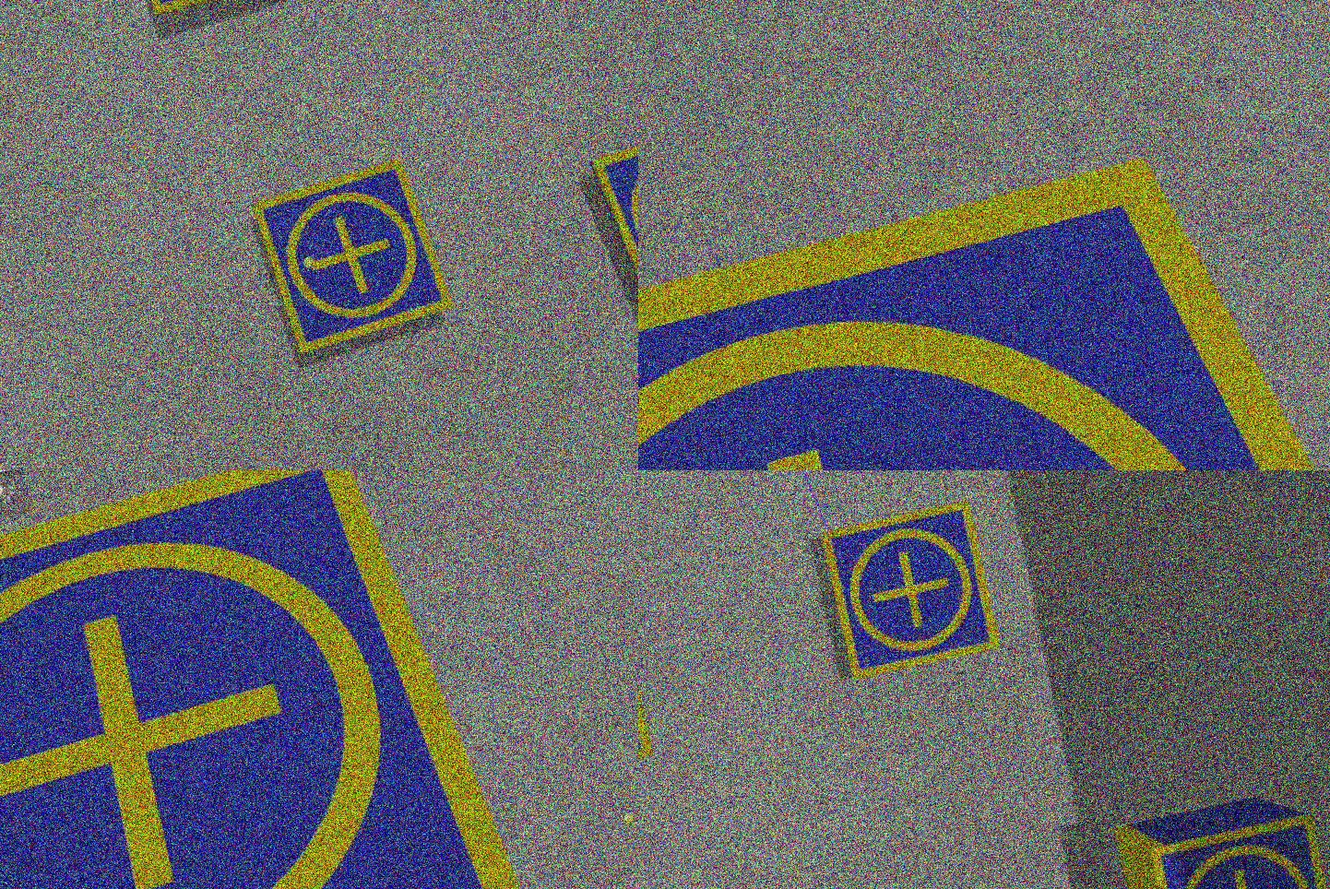small_base: (639, 117, 1330, 471), (1, 471, 560, 889), (254, 155, 460, 363), (818, 498, 1005, 681), (1144, 812, 1330, 889), (588, 110, 639, 323)
